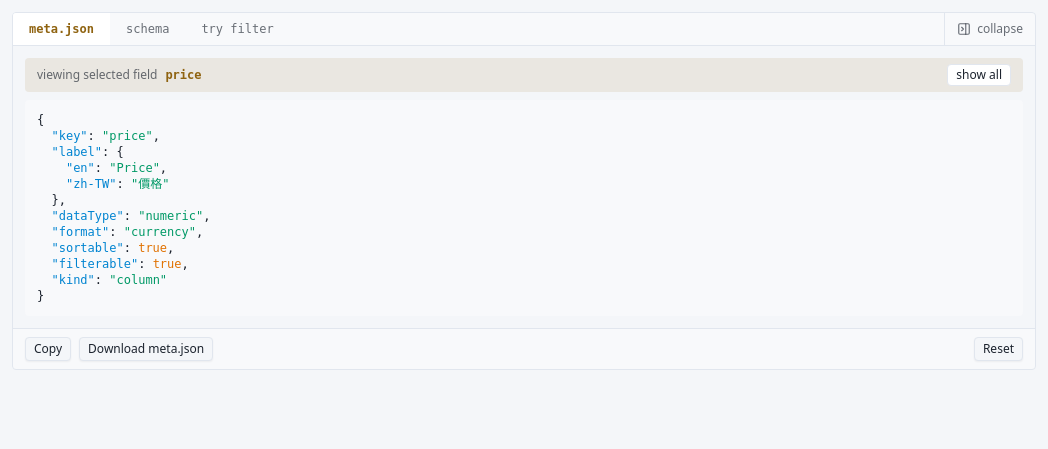
it: CodePanel fragment mode › shows only the selected field's json with a show-all escape
expect the element with test id "meta-json" shows "\"key\": \"price\"": met, box [25,100,1023,316]
Click the button "schema" at x=148, y=29, box [110,13,185,45]
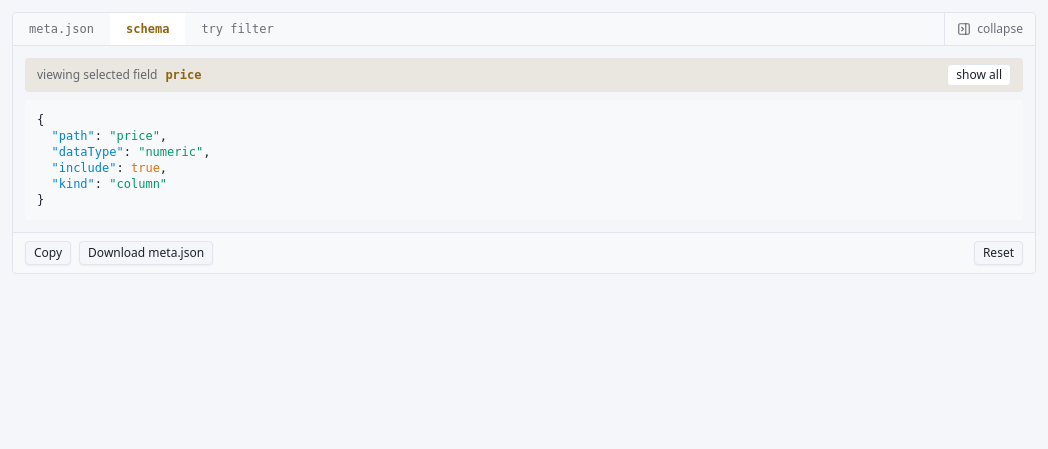
expect the element with test id "schema-json" does not show "\"author.name\"": met
expect the element with test id "schema-json" shows "\"path\": \"price\"": met, box [25,100,1023,220]
Click the button "meta.json" at x=62, y=29, box [13,13,110,45]
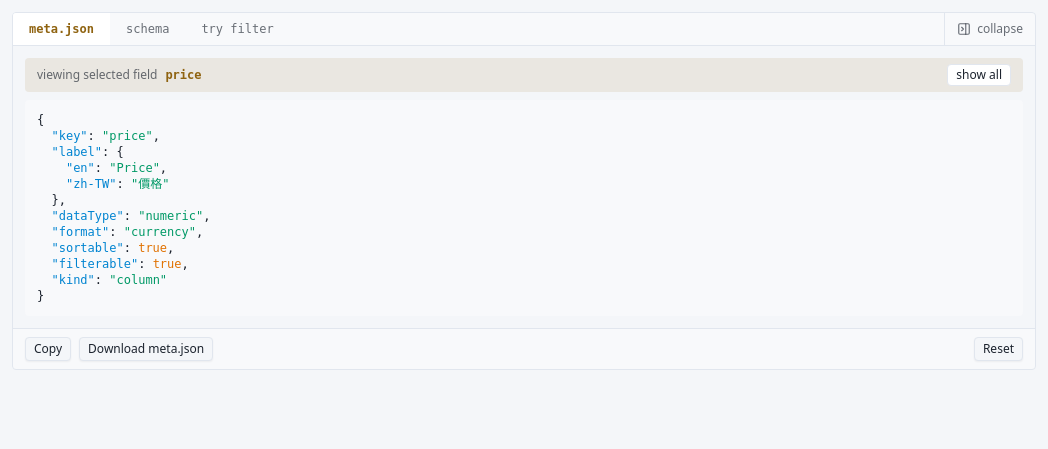
Click the button "show all" at x=979, y=75, box [947,64,1011,86]
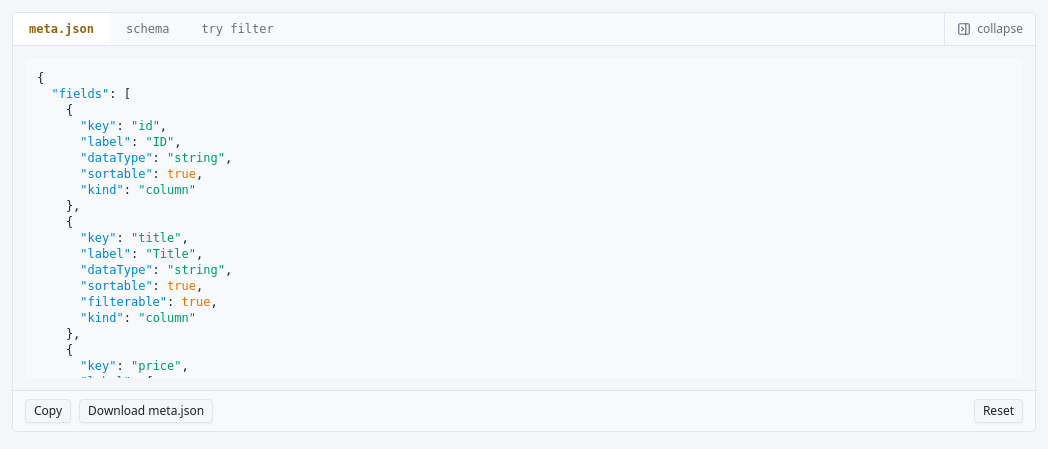
expect the element with test id "meta-json" shows "\"key\": \"title\"": met
